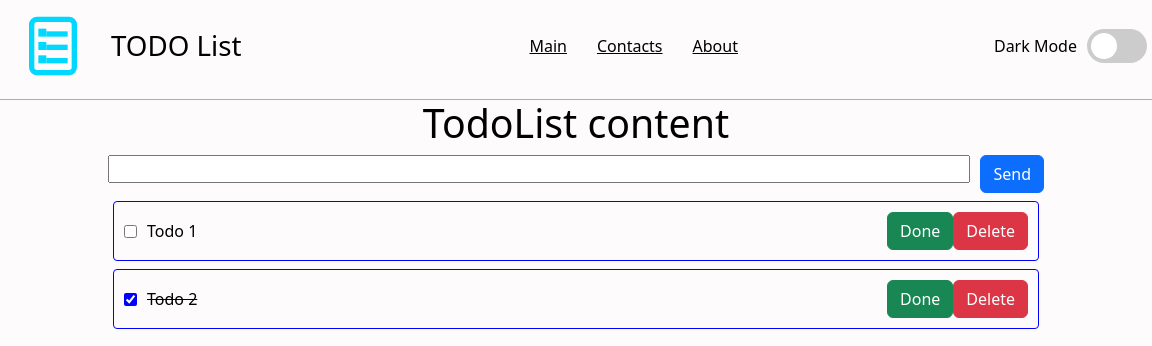
Test case: Todo App Integration Tests › navigates to the Contacts page when clicking the link in Header
Click the link "Contacts".
click(630, 46)  # box [597,35,663,57]
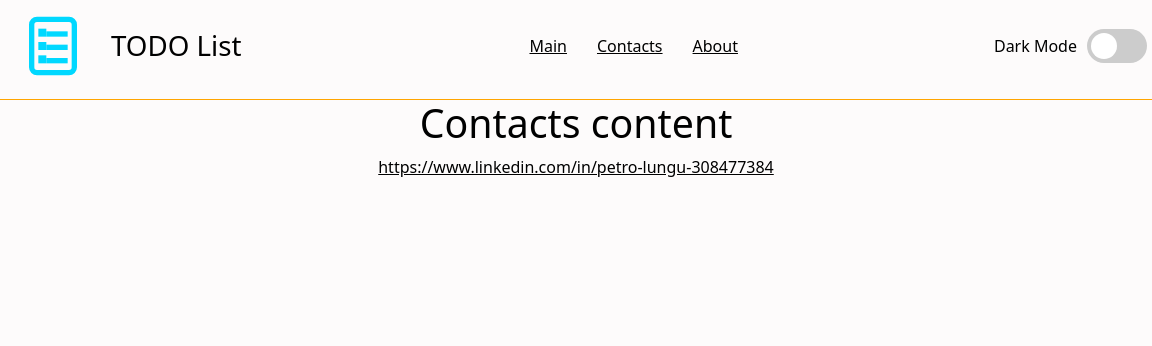
Result: the heading "Contacts content" is shown at [420,96,732,150]
